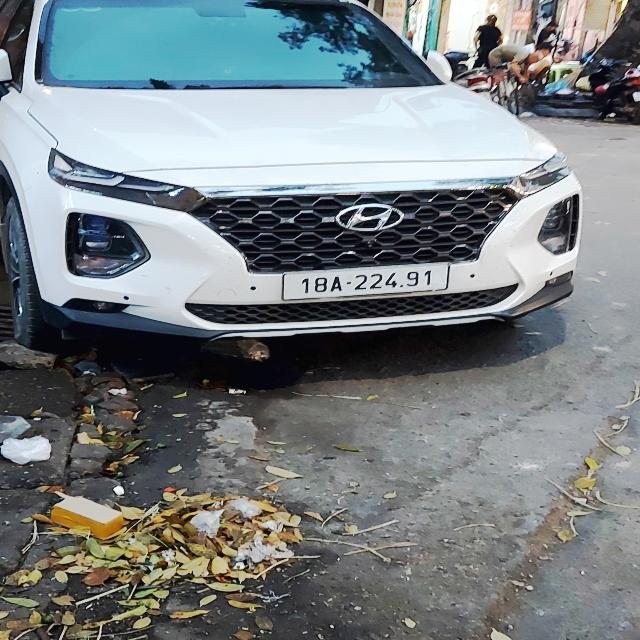license_plate: (279, 263, 454, 303)
